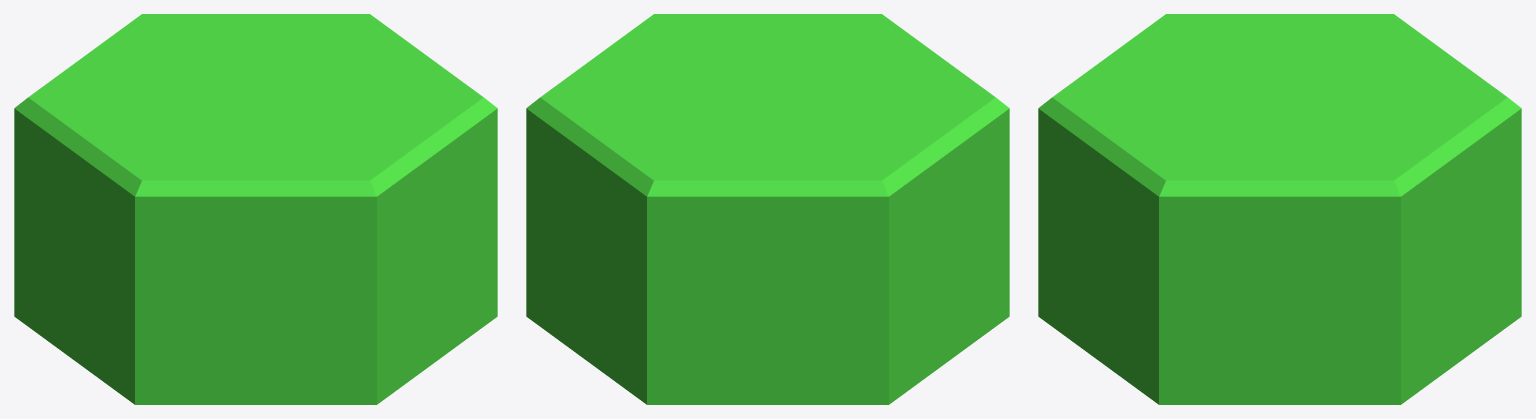
File: hex.fbx
The picture shows the model from 3 angles, left to right: view 1: azimuth 30°, elevation 25°; view 2: azimuth 150°, elevation 25°; view 3: azimuth 270°, elevation 25°; orthographic projection.
Visible parts, largest first — view 1: Hex; view 2: Hex; view 3: Hex.
Boxes of the visible parts, <box> form: Hex: <box>14,14,497,404</box>; Hex: <box>526,14,1009,404</box>; Hex: <box>1038,14,1521,404</box>.
Bounding box in the file's own units: 173 × 100 × 200.
